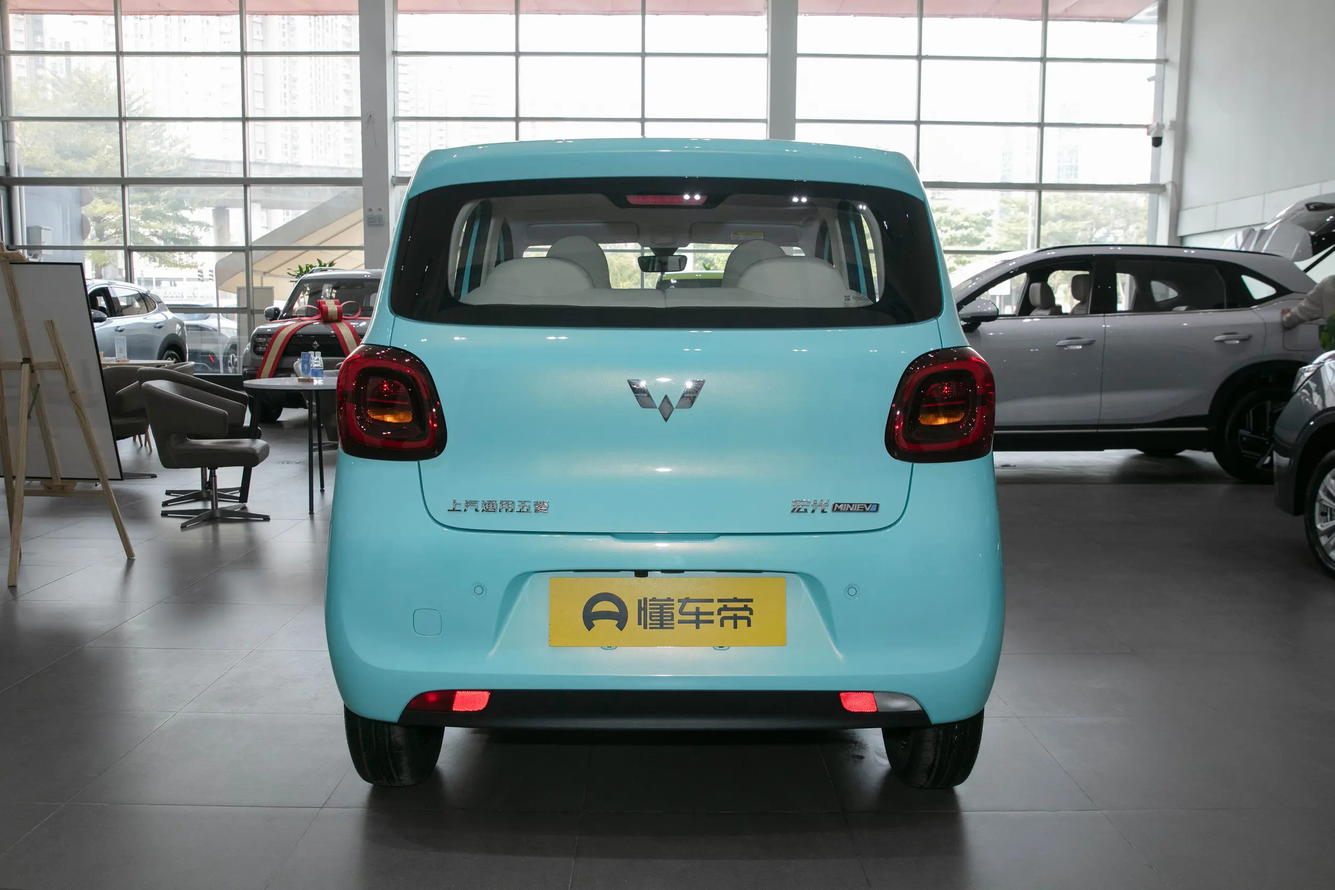SGMW: (627, 378, 706, 422)
